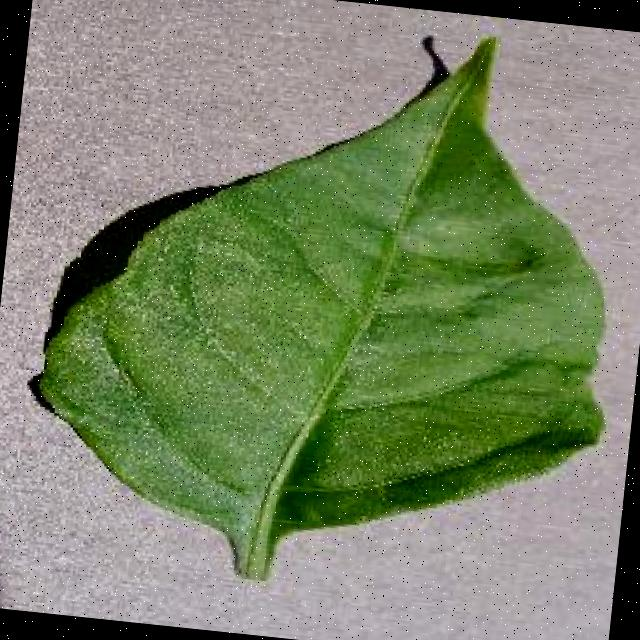Leaf: (27, 0, 640, 607)
